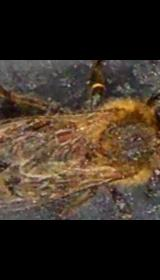varroa_mite: (48, 112, 77, 154)
